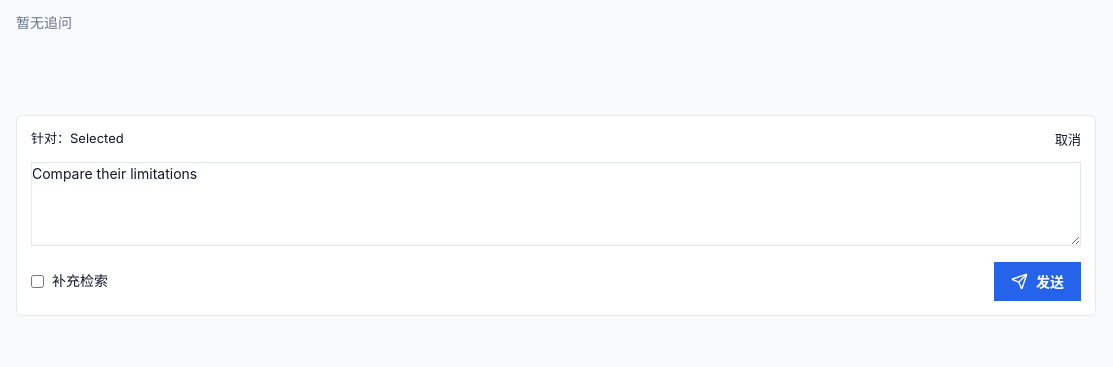
Test: 探索图表和论文链接 › 追问发送所选证据与补充检索选项，失败保留输入
The image size is (1113, 367).
Expected: the button "发送" is enabled, [994, 262, 1081, 300]
Click the checkbox labelled "补充检索" at {"x": 38, "y": 281}, box [31, 274, 44, 288]
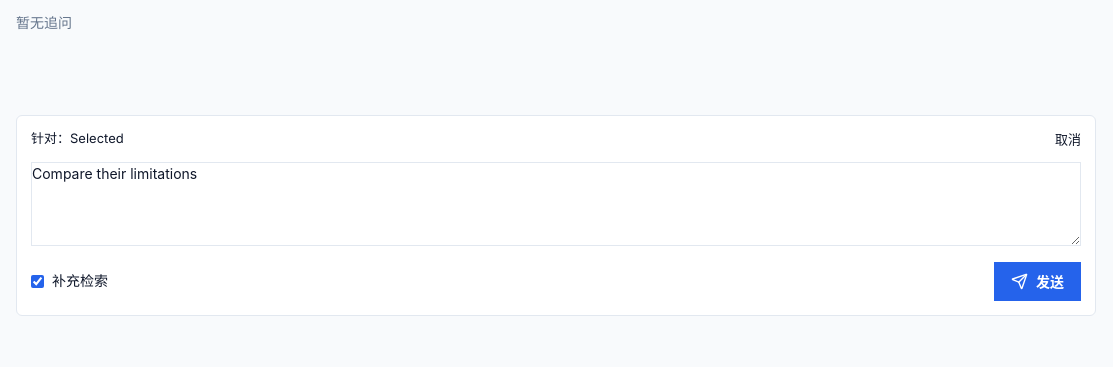
Click the button "发送" at {"x": 1038, "y": 281}, box [994, 262, 1081, 300]
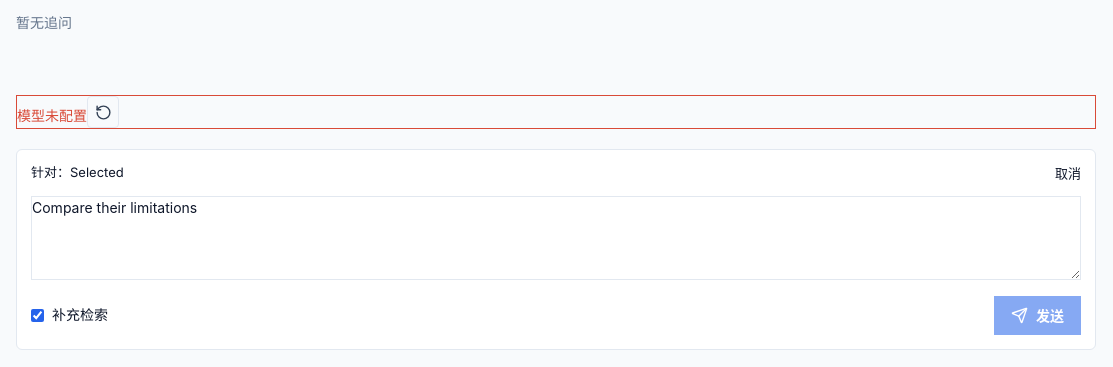
Expected: the text box named "继续提问" holds "Compare their limitations", [31, 196, 1081, 280]
Expected: the text "模型未配置" is shown, [16, 95, 1096, 129]
